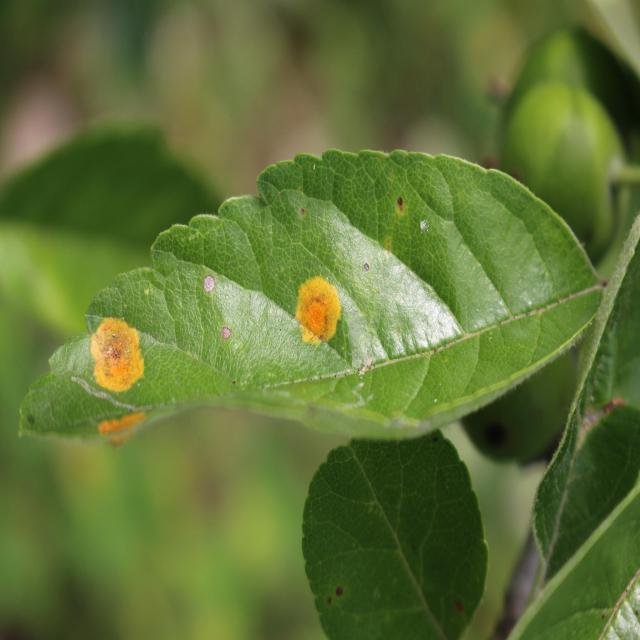Rust: (84, 304, 154, 400), (289, 263, 347, 359), (97, 413, 155, 456), (392, 188, 411, 231)
